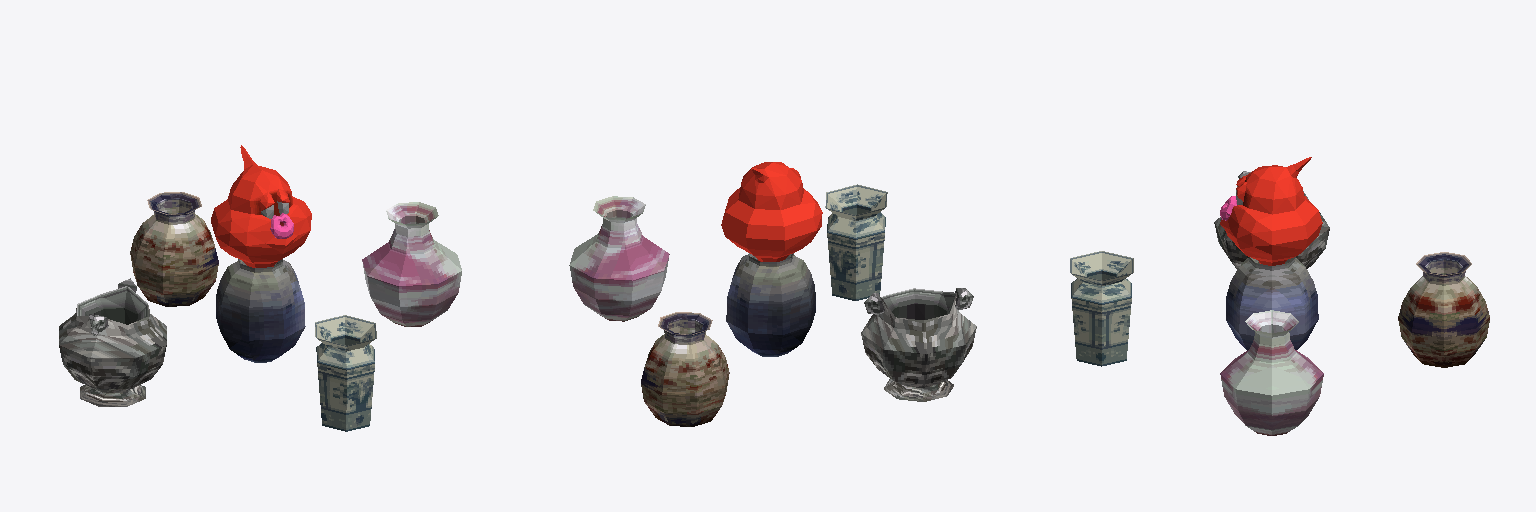
3 renders of one model, left to right at view 1: azimuth 30°, elevation 25°; view 2: azimuth 150°, elevation 25°; view 3: azimuth 270°, elevation 25°, orthographic.
Parts seen in each view (by area): view 1: shape0_material0.001, shape0_material0.002, shape0_material0.003, shape0_material0, shape2_material0_, shape0_material0.004; view 2: shape0_material0.001, shape0_material0.002, shape0_material0.003, shape0_material0, shape2_material0_, shape0_material0.004; view 3: shape0_material0.002, shape0_material0.003, shape2_material0_, shape0_material0.004, shape0_material0, shape0_material0.001.
Part boxes in pixels (bbox=[...]): shape0_material0.001: bbox=[59, 278, 166, 406]; shape0_material0.002: bbox=[362, 202, 461, 326]; shape0_material0.003: bbox=[130, 192, 218, 306]; shape0_material0: bbox=[216, 259, 305, 362]; shape2_material0_: bbox=[211, 145, 311, 267]; shape0_material0.004: bbox=[315, 315, 376, 431]; shape0_material0.001: bbox=[861, 288, 976, 401]; shape0_material0.002: bbox=[569, 196, 669, 321]; shape0_material0.003: bbox=[641, 312, 729, 426]; shape0_material0: bbox=[726, 253, 815, 356]; shape2_material0_: bbox=[721, 162, 822, 261]; shape0_material0.004: bbox=[825, 184, 887, 300]; shape0_material0.002: bbox=[1220, 310, 1323, 435]; shape0_material0.003: bbox=[1398, 252, 1489, 367]; shape2_material0_: bbox=[1220, 157, 1322, 265]; shape0_material0.004: bbox=[1070, 251, 1133, 366]; shape0_material0: bbox=[1226, 257, 1318, 350]; shape0_material0.001: bbox=[1214, 171, 1329, 268].
Bounding box in the file's own units: 5.17 × 2.49 × 4.77.
Materials: 9 (8 with a texture image).